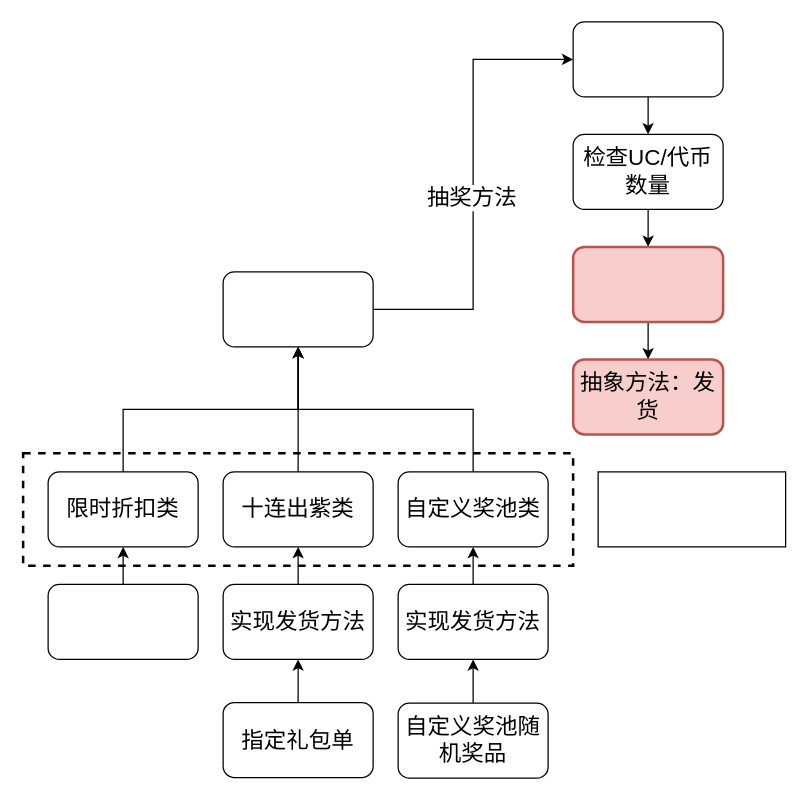
This 808x800 diagram has some shape labels left out. The centre of each missing label's shape, as x and y in pixels:
实现计算折扣方法: point 122,621
抽象方法：计算折扣: point 647,283
抽象类 AbstractDraw: point 297,309
根据时间和配置触发不同的抽奖类型: point 691,509
检查参数: point 647,59
